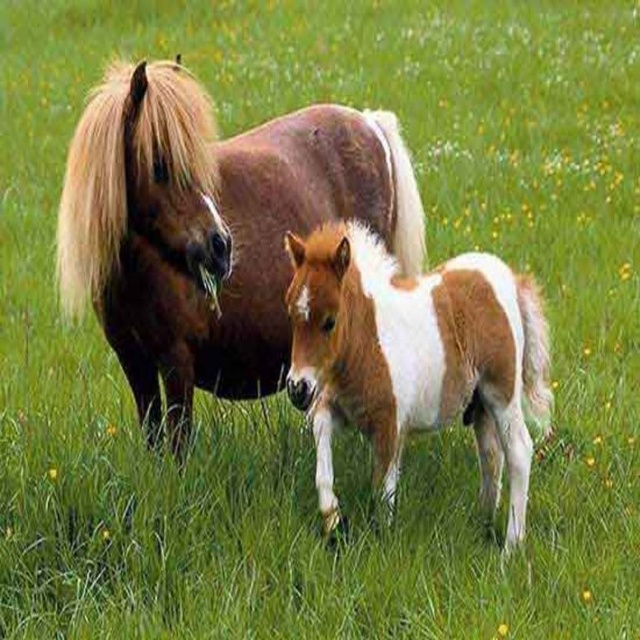Horse: (47, 53, 429, 476), (283, 215, 559, 598)
